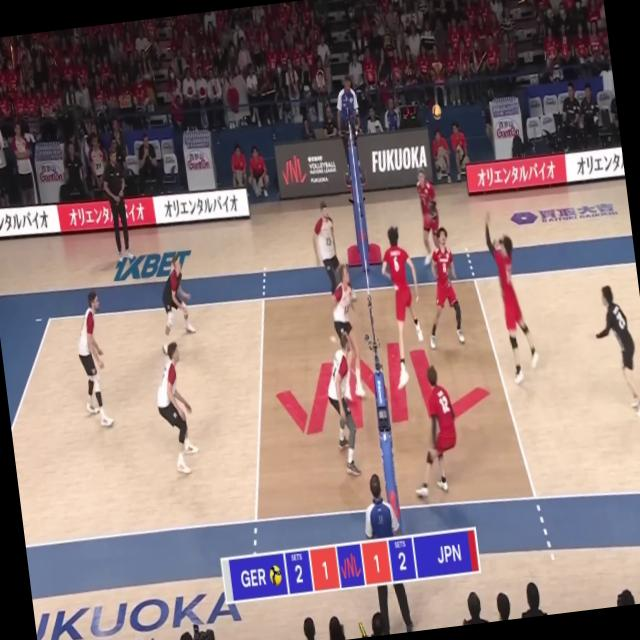referee: (357, 470, 415, 636)
team_one: (150, 339, 203, 478), (319, 332, 367, 479), (69, 288, 116, 432), (323, 262, 368, 399), (152, 252, 198, 354), (306, 199, 344, 300)
team_two: (481, 202, 541, 386), (375, 223, 429, 390), (400, 362, 464, 498), (581, 277, 640, 424), (416, 226, 466, 350), (414, 168, 446, 266)
